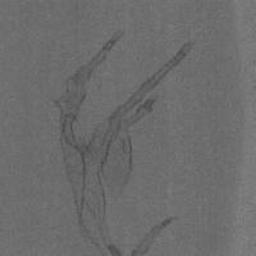Water spot: (54, 28, 196, 256), (132, 216, 180, 256)
